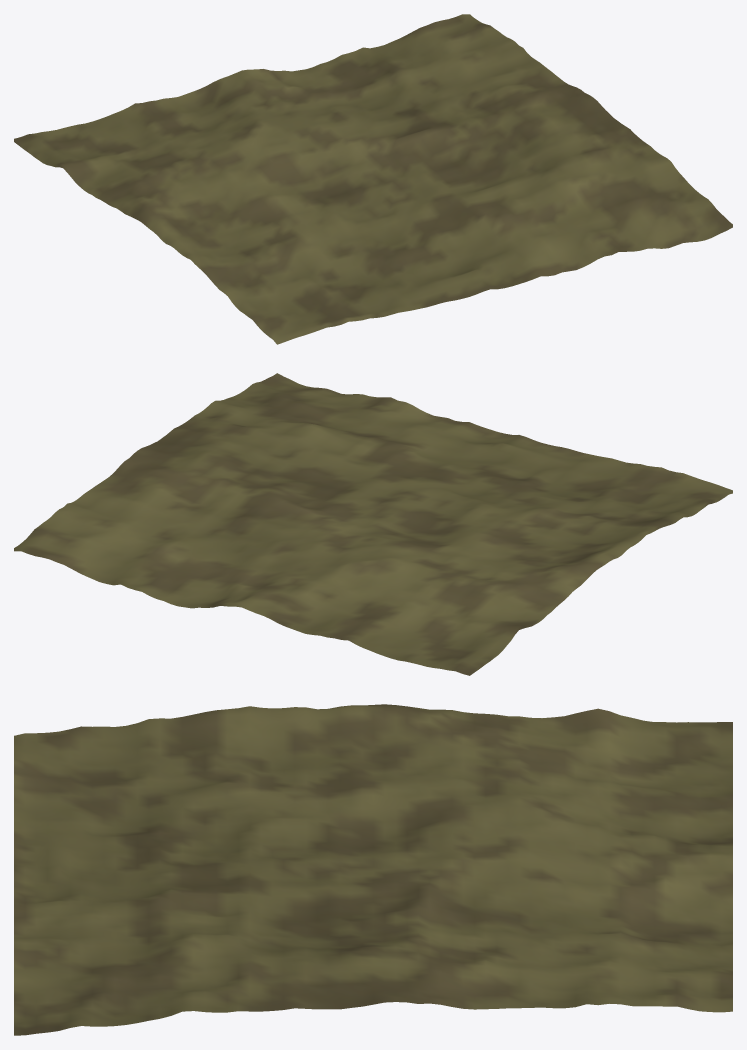
Rendered from land_f_06_09.glb.
3 renders of one model, top to bottom at view 1: azimuth 30°, elevation 25°; view 2: azimuth 150°, elevation 25°; view 3: azimuth 270°, elevation 25°, orthographic. The views are drawn at different scales.
Parts seen in each view (by area): view 1: land_f_06_09; view 2: land_f_06_09; view 3: land_f_06_09.
Boxes of the visible parts, x1,y1,x2,y2 form: land_f_06_09: [14, 14, 732, 344]; land_f_06_09: [14, 373, 732, 675]; land_f_06_09: [14, 704, 732, 1035].
Size of the model in its own units: 3840 by 284 by 3840.
